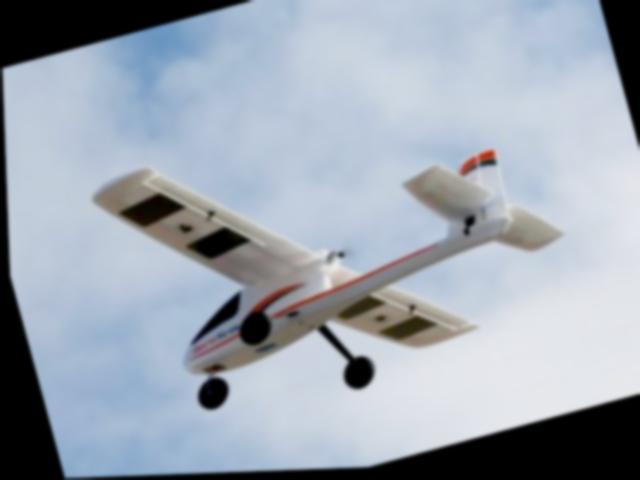uav: (81, 63, 581, 421)
